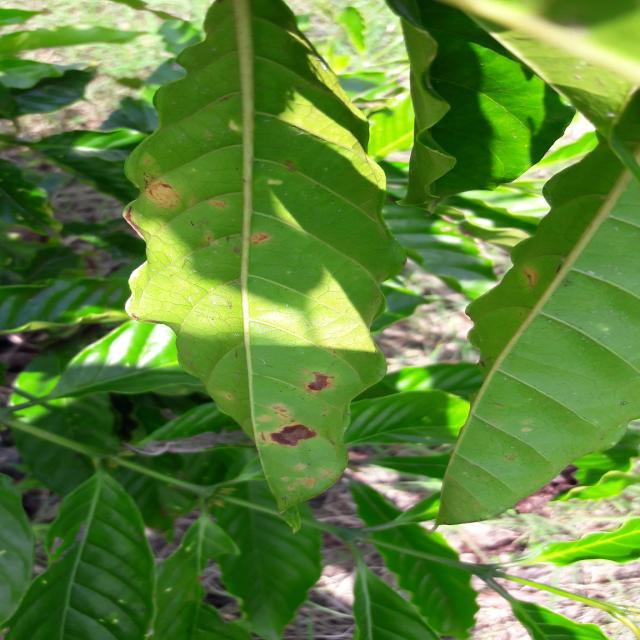Enfermedad-Roya: (124, 0, 403, 522)
